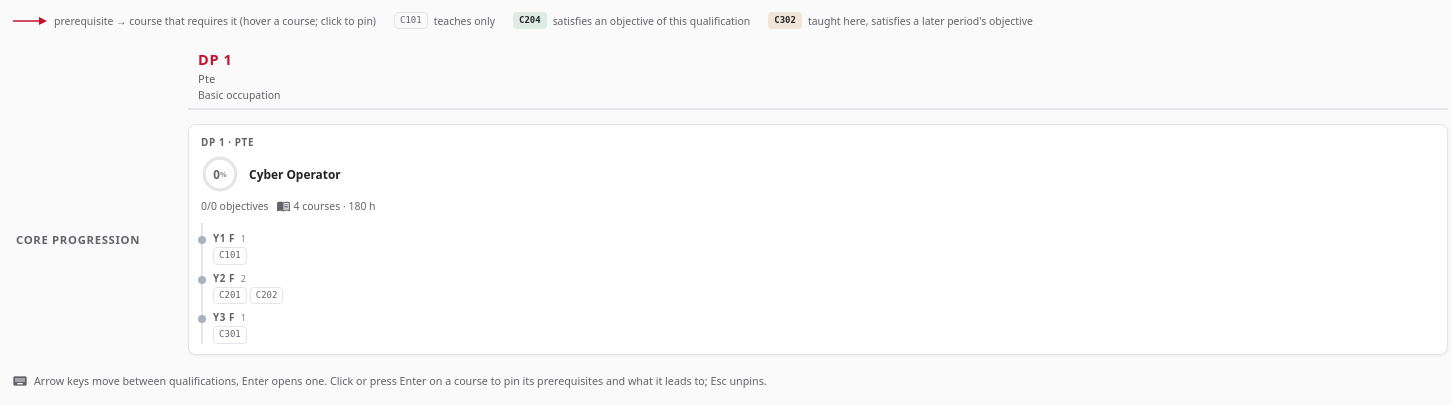
CareerMapComponent course prerequisites › clears the arrows and the card when the pointer leaves
The width and height of the screenshot is (1452, 405).
Step 1. Hover over the button "C201" → (230, 296), box left=213, top=287, right=247, bottom=304
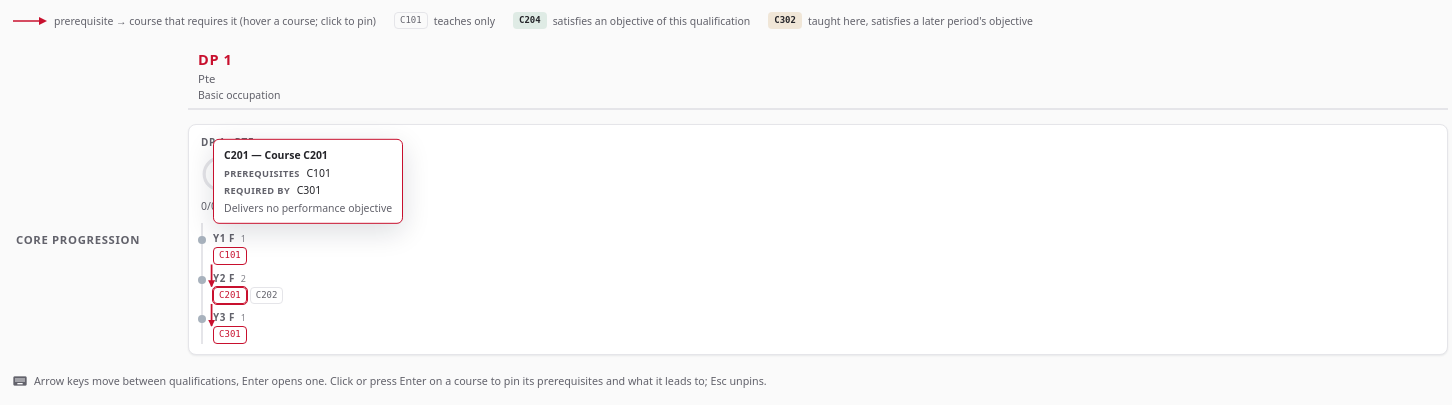
Step 2. Move the pointer off the button "C201", box left=213, top=287, right=247, bottom=304
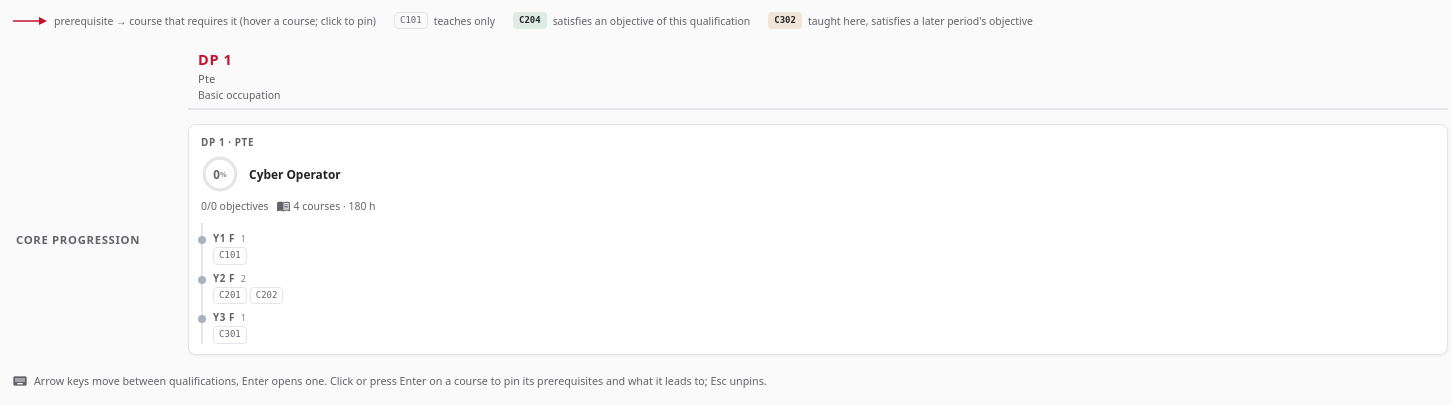
Expected: the tooltip with id "tn-course-card" is gone
